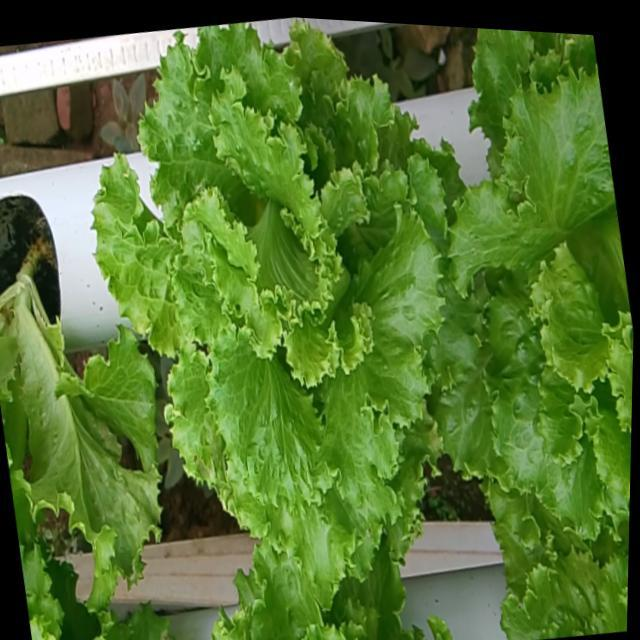Mature: (90, 24, 443, 586), (430, 63, 633, 538)
